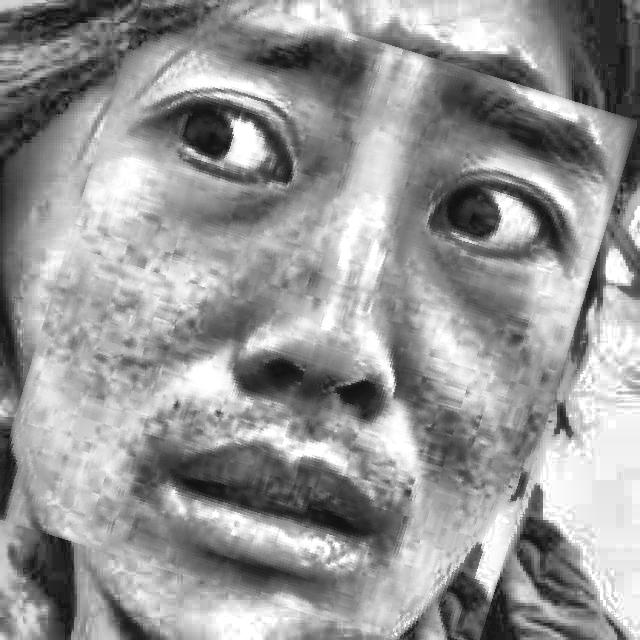fear: (20, 3, 602, 633)
